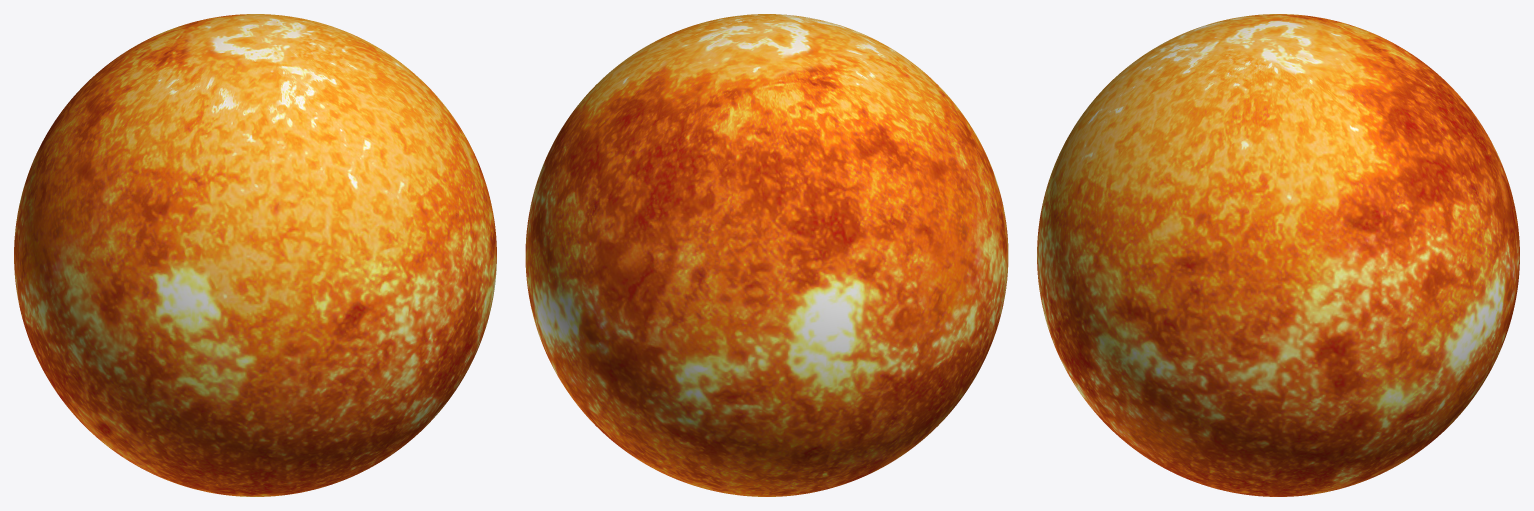
File: Sun.obj
3 renders of one model, left to right at view 1: azimuth 30°, elevation 25°; view 2: azimuth 150°, elevation 25°; view 3: azimuth 270°, elevation 25°, orthographic.
Visible parts, largest first — view 1: Sphere001; view 2: Sphere001; view 3: Sphere001.
Part boxes in pixels (<box>): Sphere001: <box>14,14,496,496</box>; Sphere001: <box>525,14,1008,496</box>; Sphere001: <box>1037,14,1519,496</box>.
Bounding box in the file's own units: 117 × 117 × 117.
1 material, 1 textured.
